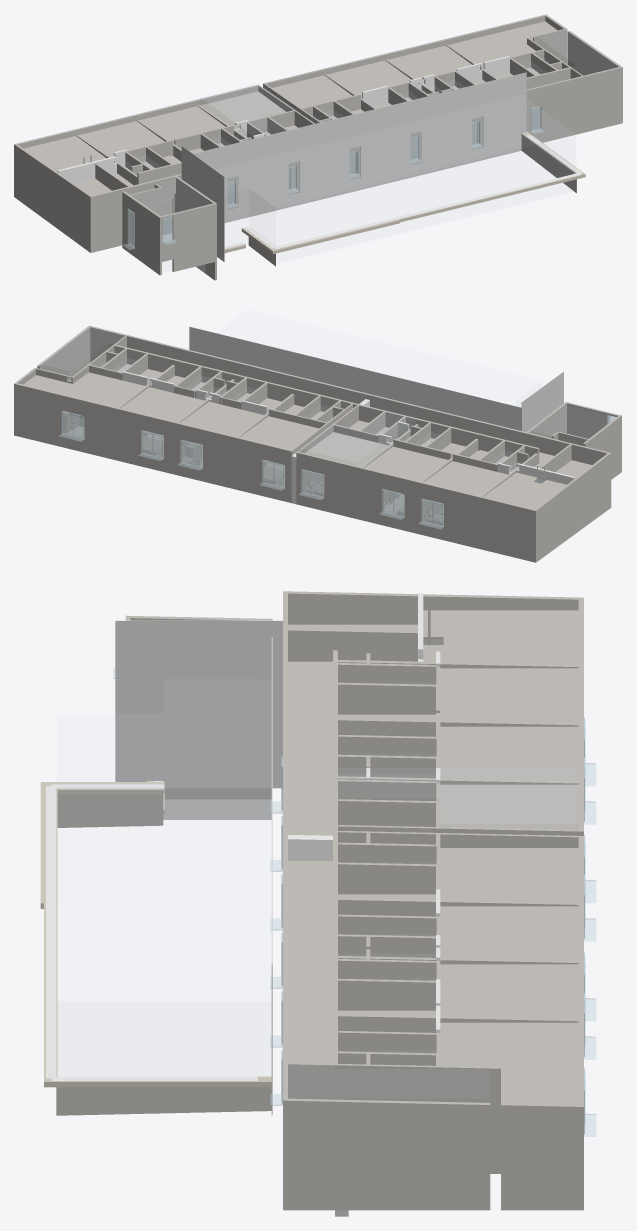
The picture shows the model from 3 angles, top to bottom: view 1: azimuth 30°, elevation 25°; view 2: azimuth 150°, elevation 25°; view 3: azimuth 270°, elevation 25°; orthographic projection. The views are drawn at different scales.
Visible parts, largest first — view 1: 17mGjEckr5R92ZkrK3DgGy, 2uTjWaOqj4q8BZ3loXzjgw, 2uTjWaOqj4q8BZ3loXzjkz, 2uTjWaOqj4q8BZ3loXzjgq, 30cKu_xHf2eQF3PDaoHG2Q, 2uTjWaOqj4q8BZ3loXzjgp, 2uTjWaOqj4q8BZ3loXzjiZ, 17mGjEckr5R92ZkrK3DgTF, 2uTjWaOqj4q8BZ3loXzjfP, 2uTjWaOqj4q8BZ3loXzjRU, 30cKu_xHf2eQF3PDaoHG1U, 30cKu_xHf2eQF3PDaoHG1Y (+20 smaller); view 2: 2uTjWaOqj4q8BZ3loXzjiZ, 2uTjWaOqj4q8BZ3loXzjfP, 17mGjEckr5R92ZkrK3DgGy, 2uTjWaOqj4q8BZ3loXzjgw, 2uTjWaOqj4q8BZ3loXzjRU, 2uTjWaOqj4q8BZ3loXzjkz, 30cKu_xHf2eQF3PDaoHG2Q, 0Z1tnQnmzFUQxxFNl9fnCZ, 30cKu_xHf2eQF3PDaoHG2E, 30cKu_xHf2eQF3PDaoHG20, 30cKu_xHf2eQF3PDaoHG1U, 30cKu_xHf2eQF3PDaoHGVT (+29 smaller); view 3: 17mGjEckr5R92ZkrK3DgTF, 2$2Vo4929Agv9A6Y7tqWSi, 0Z1tnQnmzFUQxxFNl9fnBz, 30cKu_xHf2eQF3PDaoHG2Q, 2$2Vo4929Agv9A6Y7tqWPl, 0Z1tnQnmzFUQxxFNl9fnCZ, 30cKu_xHf2eQF3PDaoHG1U, 30cKu_xHf2eQF3PDaoHGVT, 30cKu_xHf2eQF3PDaoHG20, 30cKu_xHf2eQF3PDaoHG2E, 30cKu_xHf2eQF3PDaoHG1q, 2uTjWaOqj4q8BZ3loXzjkz (+42 smaller).
Part boxes in pixels (<box>): 17mGjEckr5R92ZkrK3DgGy: <box>193,72,526,222</box>; 2uTjWaOqj4q8BZ3loXzjgw: <box>92,66,622,252</box>; 2uTjWaOqj4q8BZ3loXzjkz: <box>15,144,92,252</box>; 2uTjWaOqj4q8BZ3loXzjgq: <box>158,203,214,275</box>; 30cKu_xHf2eQF3PDaoHG2Q: <box>449,21,557,68</box>; 2uTjWaOqj4q8BZ3loXzjgp: <box>122,191,160,274</box>; 2uTjWaOqj4q8BZ3loXzjiZ: <box>263,14,546,87</box>; 17mGjEckr5R92ZkrK3DgTF: <box>181,146,224,261</box>; 2uTjWaOqj4q8BZ3loXzjfP: <box>14,84,259,197</box>; 2uTjWaOqj4q8BZ3loXzjRU: <box>137,67,571,204</box>; 30cKu_xHf2eQF3PDaoHG1U: <box>140,106,225,143</box>; 30cKu_xHf2eQF3PDaoHG1Y: <box>201,91,285,129</box>; 2uTjWaOqj4q8BZ3loXzjiZ: <box>14,383,292,502</box>; 2uTjWaOqj4q8BZ3loXzjfP: <box>296,451,537,562</box>; 17mGjEckr5R92ZkrK3DgGy: <box>189,326,521,430</box>; 2uTjWaOqj4q8BZ3loXzjgw: <box>88,325,608,464</box>; 2uTjWaOqj4q8BZ3loXzjRU: <box>113,344,539,463</box>; 2uTjWaOqj4q8BZ3loXzjkz: <box>535,452,611,561</box>; 30cKu_xHf2eQF3PDaoHG2Q: <box>23,372,144,407</box>; 0Z1tnQnmzFUQxxFNl9fnCZ: <box>483,472,566,509</box>; 30cKu_xHf2eQF3PDaoHG2E: <box>180,401,263,436</box>; 30cKu_xHf2eQF3PDaoHG20: <box>120,387,204,421</box>; 30cKu_xHf2eQF3PDaoHG1U: <box>364,446,447,481</box>; 30cKu_xHf2eQF3PDaoHGVT: <box>424,461,507,495</box>; 17mGjEckr5R92ZkrK3DgTF: <box>115,620,282,788</box>; 2$2Vo4929Agv9A6Y7tqWSi: <box>288,1098,490,1210</box>; 0Z1tnQnmzFUQxxFNl9fnBz: <box>288,661,332,1063</box>; 30cKu_xHf2eQF3PDaoHG2Q: <box>440,1022,578,1104</box>; 2$2Vo4929Agv9A6Y7tqWPl: <box>501,1103,578,1210</box>; 0Z1tnQnmzFUQxxFNl9fnCZ: <box>423,610,578,664</box>; 30cKu_xHf2eQF3PDaoHG1U: <box>440,726,578,781</box>; 30cKu_xHf2eQF3PDaoHGVT: <box>440,668,578,722</box>; 30cKu_xHf2eQF3PDaoHG20: <box>440,964,578,1018</box>; 30cKu_xHf2eQF3PDaoHG2E: <box>440,906,578,960</box>; 30cKu_xHf2eQF3PDaoHG1q: <box>440,848,578,902</box>; 2uTjWaOqj4q8BZ3loXzjkz: <box>283,591,578,644</box>.
Bounding box in the file's own units: 34.85 × 6.5 × 16.07.
